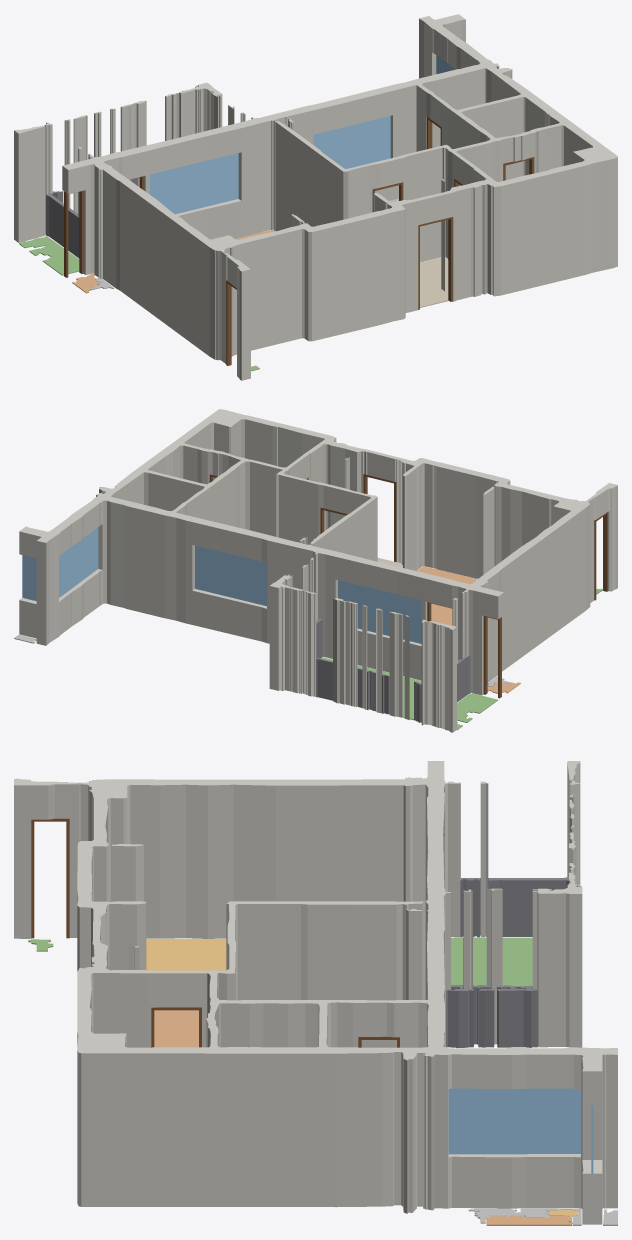
3 renders of one model, top to bottom at view 1: azimuth 30°, elevation 25°; view 2: azimuth 150°, elevation 25°; view 3: azimuth 270°, elevation 25°, orthographic. The views are drawn at different scales.
Parts seen in each view (by area): view 1: walls, window_10, window_11, railings, floor_13_Entry, floor_1_Outdoor, door_0, door_6, door_7; view 2: walls, window_11, railings, window_10, window_9, floor_8_Living_Room, door_0, floor_1_Outdoor, window_8, door_7; view 3: walls, window_9, railings, floor_2_Outdoor, floor_3_Kitchen, floor_8_Living_Room, door_7, floor_19_Undefined, floor_9_Living_Room.
Part boxes in pixels (x1,y1,x2,y2): walls: [14, 14, 617, 380]; window_10: [150, 153, 238, 214]; window_11: [313, 116, 390, 168]; railings: [46, 178, 137, 258]; floor_13_Entry: [420, 257, 448, 307]; floor_1_Outdoor: [19, 236, 79, 275]; door_0: [64, 190, 83, 277]; door_6: [418, 217, 452, 309]; door_7: [226, 280, 236, 365]; walls: [19, 409, 617, 732]; window_11: [195, 545, 266, 606]; railings: [316, 618, 470, 722]; window_10: [338, 580, 421, 643]; window_9: [59, 527, 98, 597]; floor_8_Living_Room: [416, 566, 475, 625]; door_0: [483, 616, 501, 698]; floor_1_Outdoor: [457, 693, 497, 730]; window_8: [22, 555, 36, 600]; door_7: [594, 512, 607, 600]; walls: [14, 761, 617, 1224]; window_9: [448, 1088, 580, 1154]; railings: [446, 877, 568, 1047]; floor_2_Outdoor: [451, 937, 532, 986]; floor_3_Kitchen: [146, 939, 226, 970]; floor_8_Living_Room: [154, 1010, 198, 1047]; door_7: [31, 818, 69, 938]; floor_19_Undefined: [468, 1208, 581, 1225]; floor_9_Living_Room: [486, 1215, 573, 1225].
Bounding box in the file's own units: 11.7 × 2.72 × 9.63.
